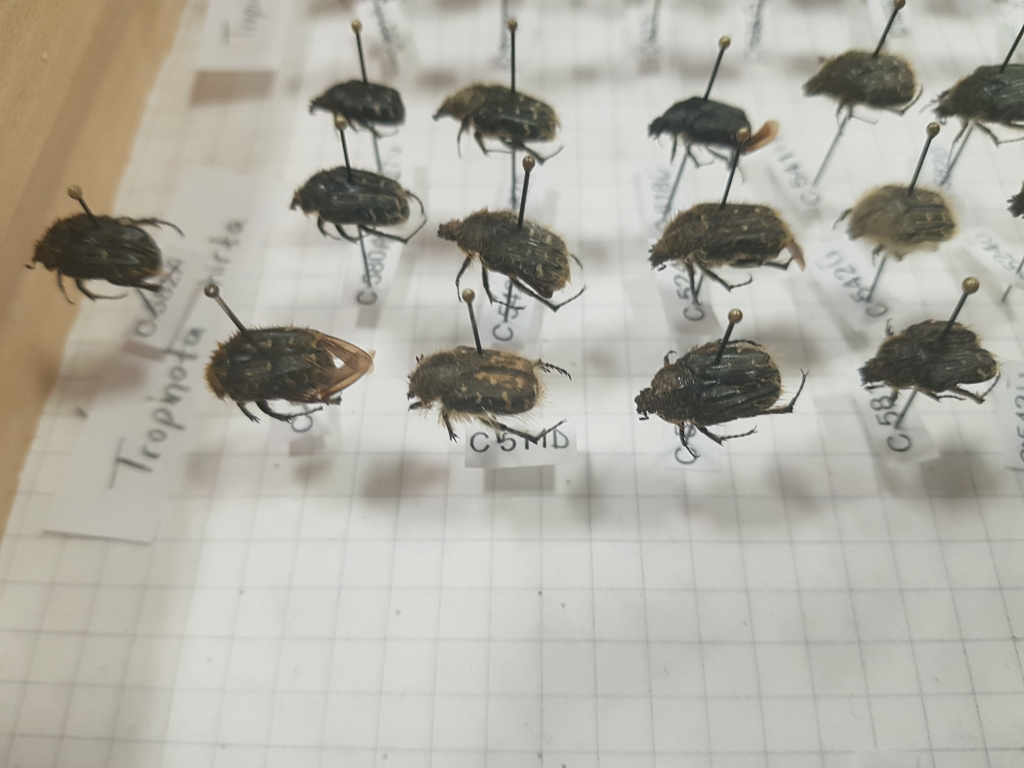Tropinota_hirta: (636, 190, 829, 298)
